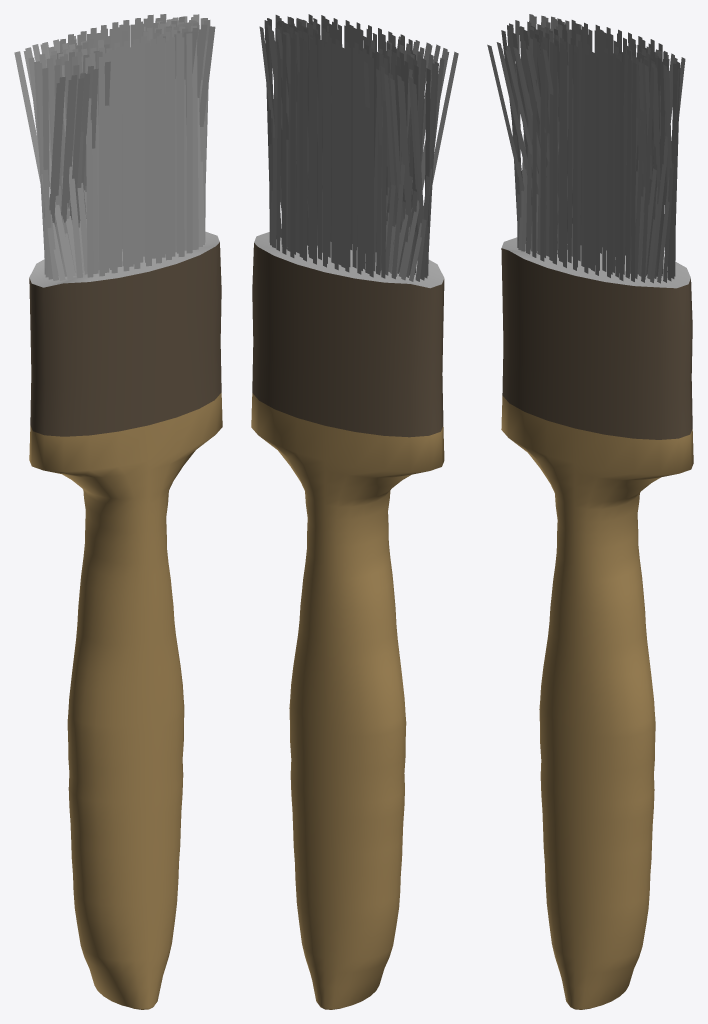
File: Kwast.fbx
3 views of the same model, side by side, from view 1: azimuth 30°, elevation 25°; view 2: azimuth 150°, elevation 25°; view 3: azimuth 330°, elevation 25° (orthographic).
Visible parts, largest first — view 1: pCylinder1, polySurface186; view 2: pCylinder1, polySurface186; view 3: pCylinder1, polySurface186.
Boxes of the visible parts, left/top/right/bottom form: pCylinder1: left=29, top=231, right=222, bottom=1009; polySurface186: left=14, top=14, right=215, bottom=280; pCylinder1: left=251, top=228, right=444, bottom=1009; polySurface186: left=259, top=14, right=458, bottom=281; pCylinder1: left=501, top=237, right=693, bottom=1009; polySurface186: left=487, top=14, right=685, bottom=283.
Bounding box in the file's own units: 0.9 × 4.42 × 0.3888.
